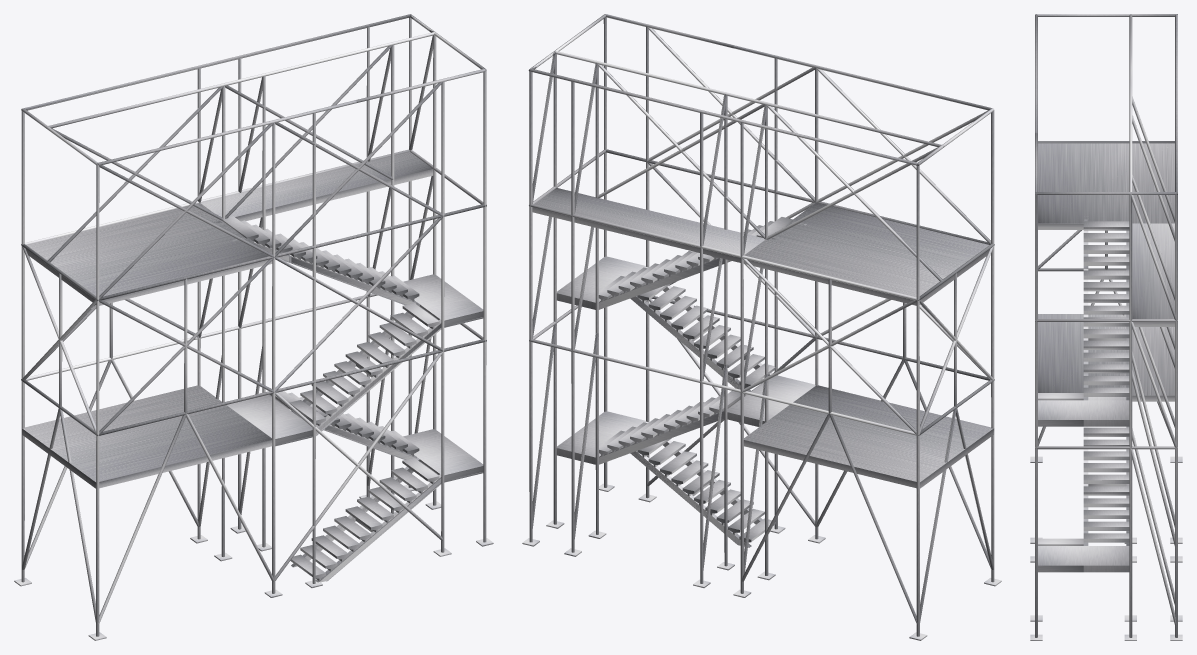
Rendered from sk_scaffold.glb.
3 renders of one model, left to right at view 1: azimuth 30°, elevation 25°; view 2: azimuth 150°, elevation 25°; view 3: azimuth 270°, elevation 25°, orthographic. The views are drawn at different scales.
Parts seen in each view (by area): view 1: Object_152_Material_2_0, Object_150_Material_2_0, Object_151_Material_2_0, Object_117_Material_2_0, Object_118_Material_2_0, Object_32_Material_2_0, Object_3_Material_2_0, Object_34_Material_2_0, Object_129_Material_2_0, Object_126_Material_2_0, Object_120_Material_2_0, Object_124_Material_2_0 (+35 smaller); view 2: Object_152_Material_2_0, Object_150_Material_2_0, Object_151_Material_2_0, Object_117_Material_2_0, Object_118_Material_2_0, Object_34_Material_2_0, Object_100_Material_2_0, Object_128_Material_2_0, Object_101_Material_2_0, Object_102_Material_2_0, Object_32_Material_2_0, Object_3_Material_2_0 (+34 smaller); view 3: Object_150_Material_2_0, Object_152_Material_2_0, Object_151_Material_2_0, Object_32_Material_2_0, Object_3_Material_2_0, Object_125_Material_2_0, Object_126_Material_2_0, Object_127_Material_2_0, Object_118_Material_2_0, Object_117_Material_2_0, Object_74_Material_2_0, Object_90_Material_2_0 (+40 smaller).
Part boxes in pixels (x1,y1,x2,y2): Object_152_Material_2_0: (22,385,272,488); Object_150_Material_2_0: (24,203,272,305); Object_151_Material_2_0: (200,151,433,221); Object_117_Material_2_0: (21,149,486,300); Object_118_Material_2_0: (21,293,486,435); Object_32_Material_2_0: (403,274,483,327); Object_3_Material_2_0: (403,429,483,482); Object_34_Material_2_0: (227,394,312,446); Object_129_Material_2_0: (96,164,99,636); Object_126_Material_2_0: (483,70,486,542); Object_120_Material_2_0: (441,81,444,552); Object_124_Material_2_0: (272,122,275,593); Object_152_Material_2_0: (743,385,994,488); Object_150_Material_2_0: (743,202,991,305); Object_151_Material_2_0: (532,188,765,262); Object_117_Material_2_0: (529,149,994,300); Object_118_Material_2_0: (529,296,994,435); Object_34_Material_2_0: (727,375,815,426); Object_100_Material_2_0: (571,81,574,552); Object_128_Material_2_0: (916,165,919,636); Object_101_Material_2_0: (700,112,703,583); Object_102_Material_2_0: (740,122,743,593); Object_32_Material_2_0: (556,256,646,309); Object_3_Material_2_0: (556,411,646,464); Object_150_Material_2_0: (1038,143,1174,229); Object_152_Material_2_0: (1038,314,1174,401); Object_151_Material_2_0: (1132,223,1174,326); Object_32_Material_2_0: (1038,400,1129,426); Object_3_Material_2_0: (1038,546,1129,572); Object_125_Material_2_0: (1129,194,1132,637); Object_126_Material_2_0: (1035,193,1037,637); Object_127_Material_2_0: (1175,194,1177,637); Object_118_Material_2_0: (1035,268,1177,449); Object_117_Material_2_0: (1035,141,1177,321); Object_74_Material_2_0: (1129,14,1177,194); Object_90_Material_2_0: (1131,448,1176,626).
Size of the model in its own units: 30.88 by 35.12 by 10.88.
Materials: 1 (1 with a texture image).
